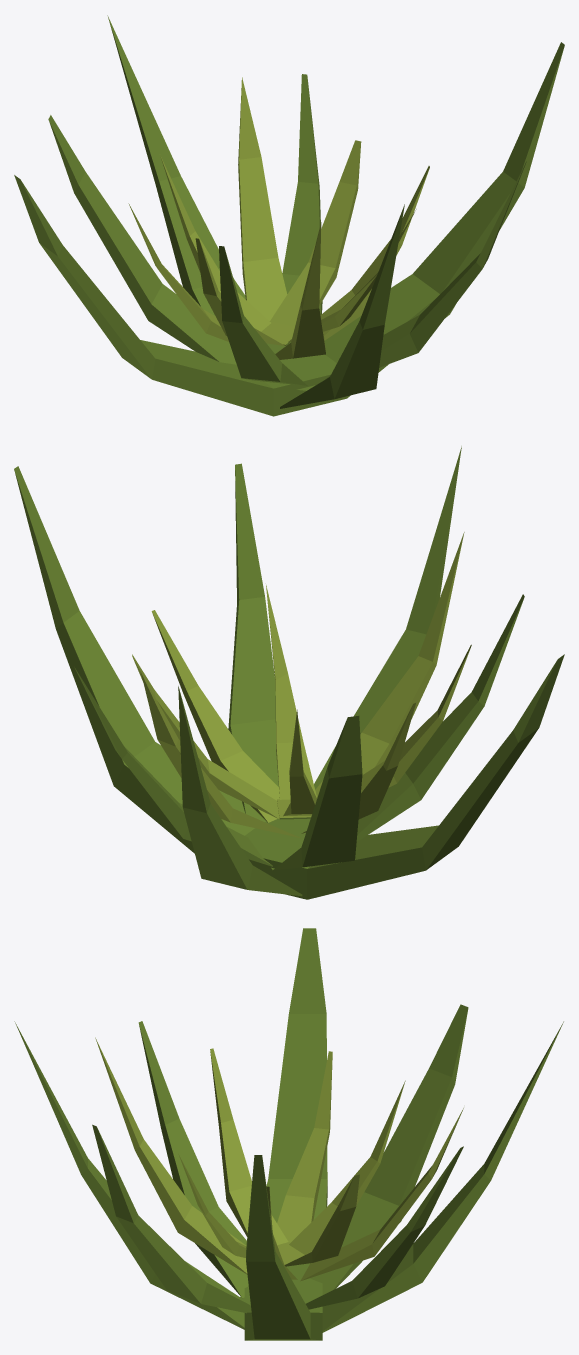
The model's file is island_plant_5.fbx.
The picture shows the model from 3 angles, top to bottom: view 1: azimuth 30°, elevation 25°; view 2: azimuth 150°, elevation 25°; view 3: azimuth 270°, elevation 25°; orthographic projection. The views are drawn at different scales.
Visible parts, largest first — view 1: Cube.028; view 2: Cube.028; view 3: Cube.028.
Part boxes in pixels (bbox=[...]): Cube.028: bbox=[14, 15, 564, 416]; Cube.028: bbox=[14, 446, 564, 899]; Cube.028: bbox=[14, 928, 563, 1340].
Size of the model in its own units: 1.24 by 0.6757 by 1.15.
